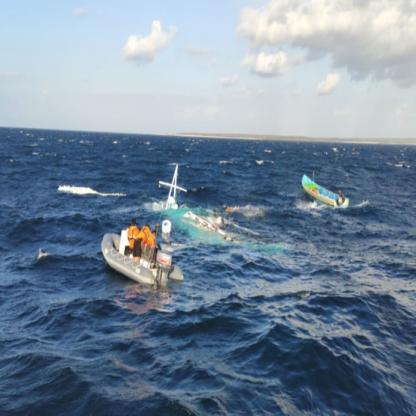boat: (94, 230, 188, 289), (160, 178, 236, 230), (300, 171, 356, 216)
